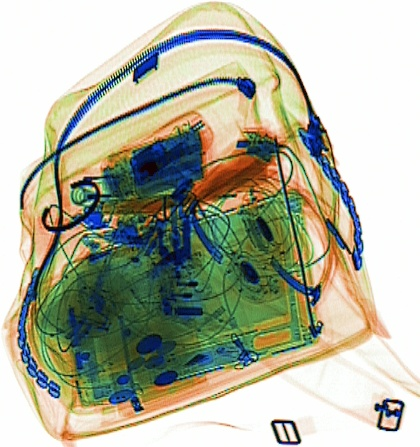powerbank: (103, 124, 206, 207)
